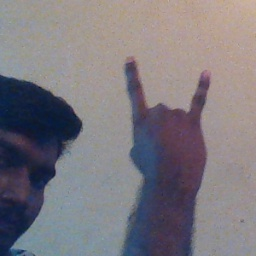V: (115, 51, 222, 181)
